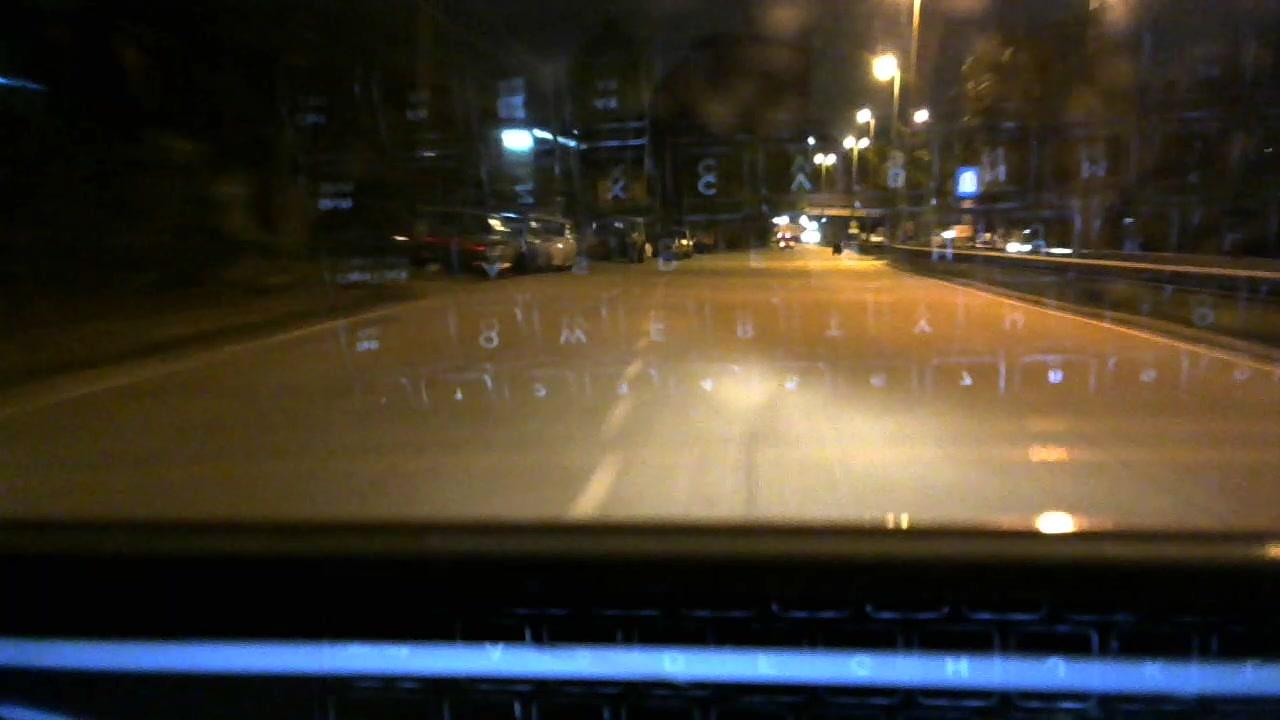Car: (393, 203, 528, 276), (524, 213, 587, 265), (600, 210, 655, 262), (662, 226, 701, 256)
